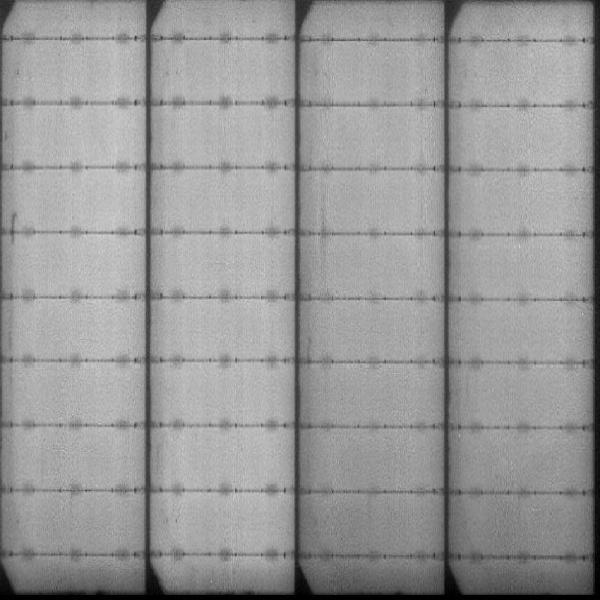scratch: (8, 211, 20, 251)
